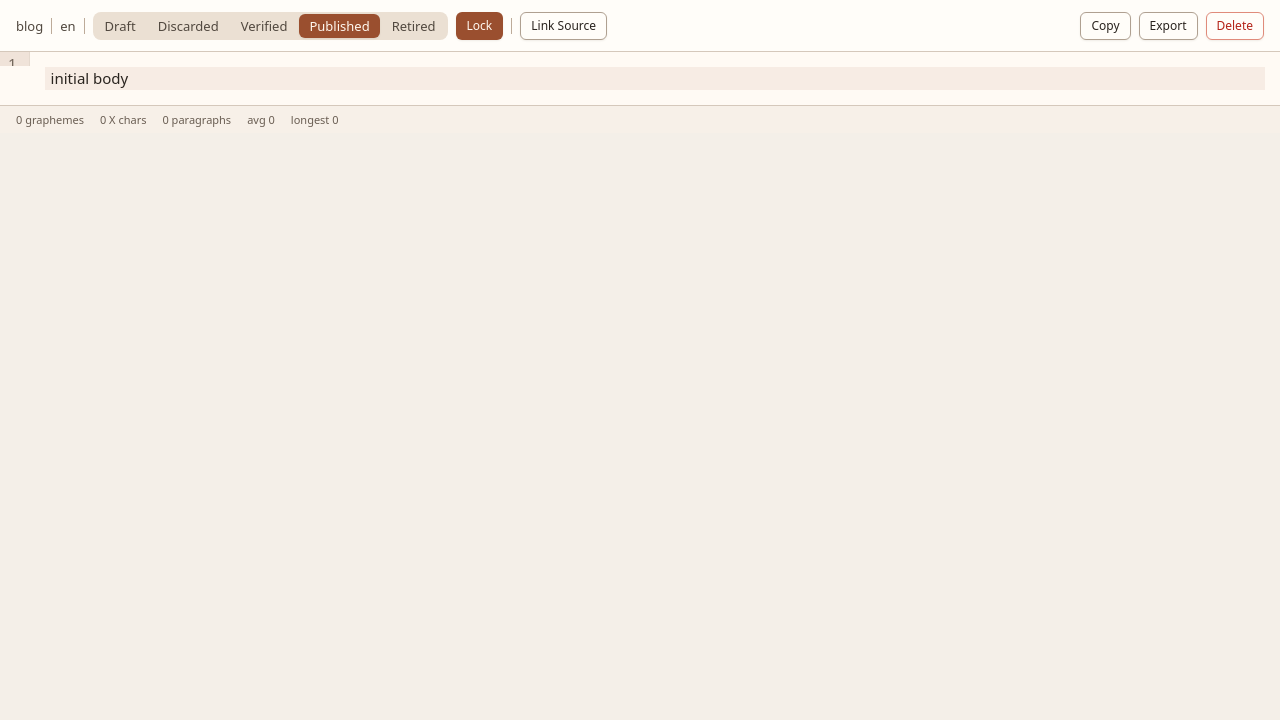
Test case: CenterPane status changes › does not change status if the prompt is cancelled
Click the radio button labelled "Draft" at (120, 26), box [95, 14, 146, 38]
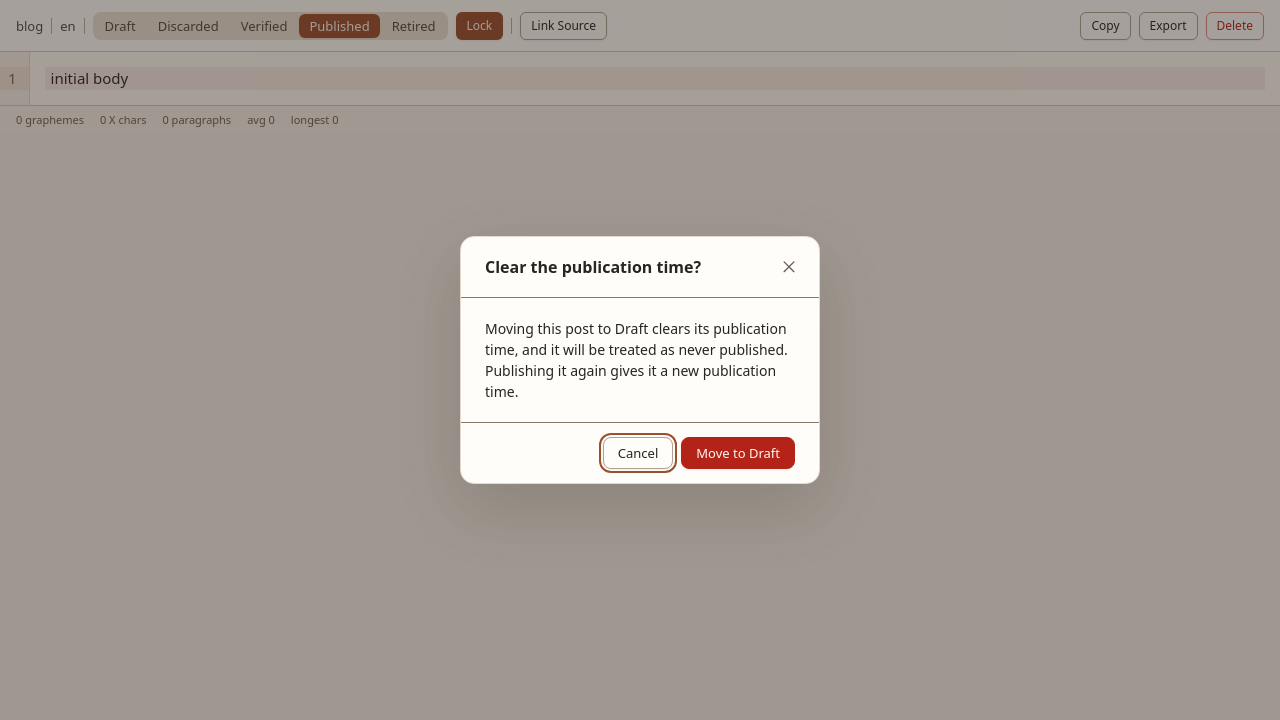
expect the heading "Clear the publication time?" is shown: met, box [485, 256, 701, 278]
Click the button "Cancel" at (638, 453), box [603, 437, 673, 469]
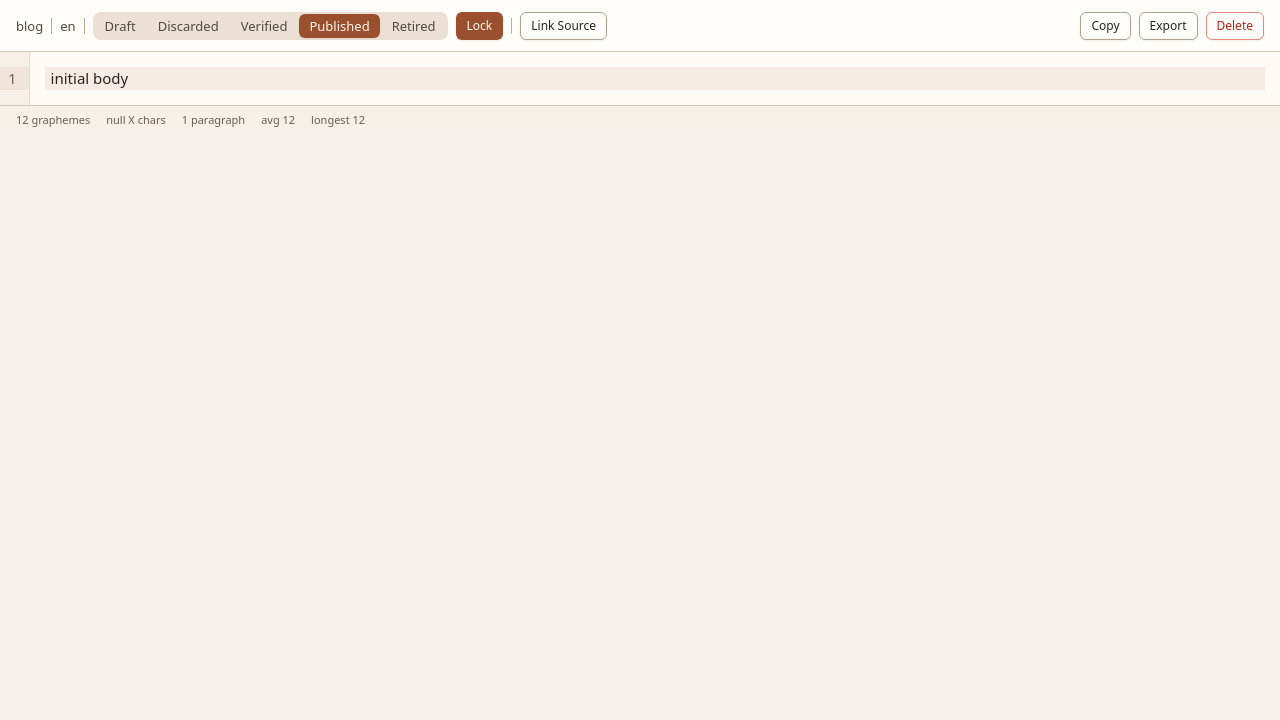
expect the heading "Clear the publication time?" is gone: met
